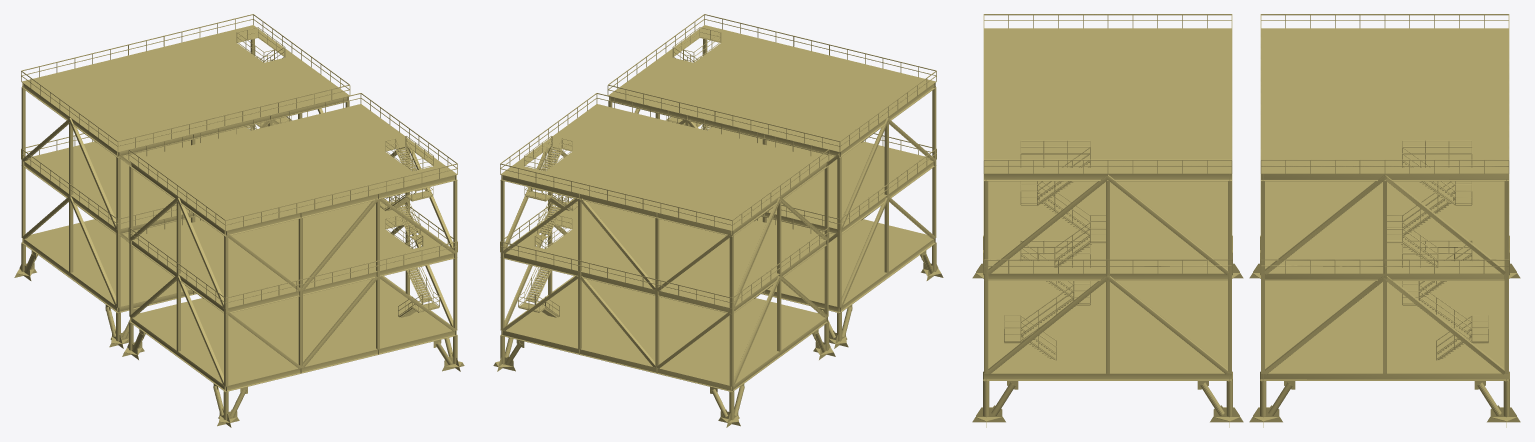
The model's file is compressed_1760448466145_22n_H2_Storage-Structure.glb.
3 views of the same model, side by side, from view 1: azimuth 30°, elevation 25°; view 2: azimuth 150°, elevation 25°; view 3: azimuth 270°, elevation 25° (orthographic). The views are drawn at different scales.
Visible parts, largest first — view 1: ACPPSTRUCTUREPLATE.005; view 2: ACPPSTRUCTUREPLATE.005; view 3: ACPPSTRUCTUREPLATE.005.
Boxes of the visible parts, x1,y1,x2,y2 form: ACPPSTRUCTUREPLATE.005: (14,14,464,427); ACPPSTRUCTUREPLATE.005: (493,14,943,427); ACPPSTRUCTUREPLATE.005: (972,14,1520,427).
Size of the model in its own units: 26.7 by 21.09 by 39.81.
